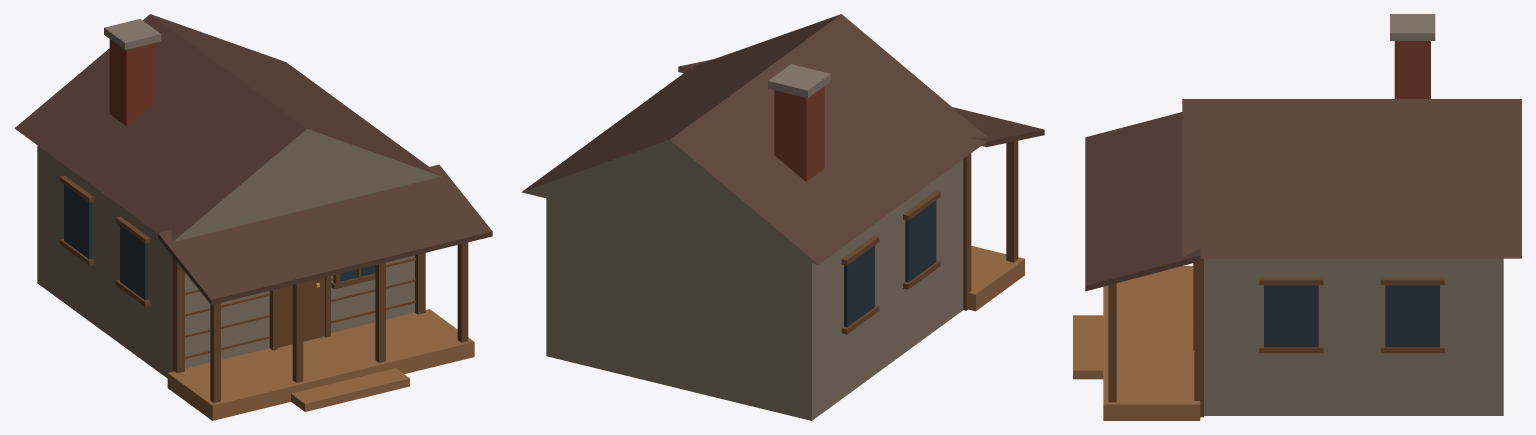
The model's file is SM_Shack.fbx.
The picture shows the model from 3 angles, left to right: view 1: azimuth 30°, elevation 25°; view 2: azimuth 150°, elevation 25°; view 3: azimuth 270°, elevation 25°; orthographic projection. The views are drawn at different scales.
Visible parts, largest first — view 1: Shack; view 2: Shack; view 3: Shack.
Part boxes in pixels (x1=…): Shack: x1=14, y1=14, x2=492, y2=420; Shack: x1=521, y1=14, x2=1044, y2=420; Shack: x1=1073, y1=14, x2=1521, y2=420.
Bounding box in the file's own units: 580 × 740 × 532.
